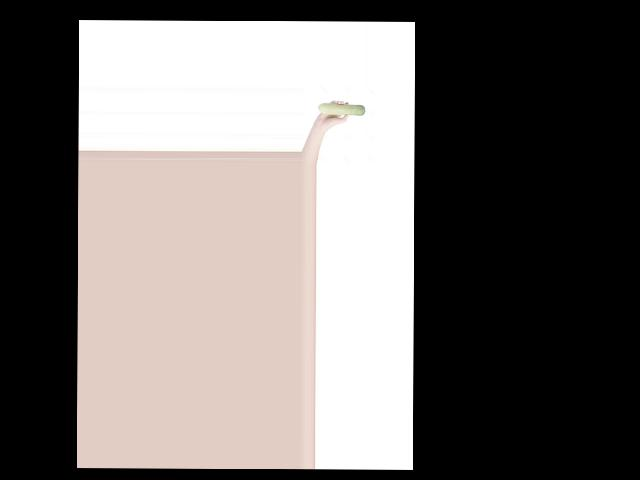cucumber: (317, 103, 365, 116)
